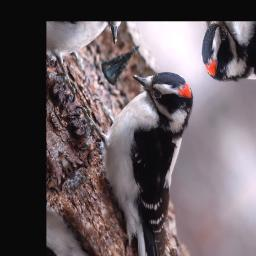Woodpecker: (60, 40, 251, 256)
